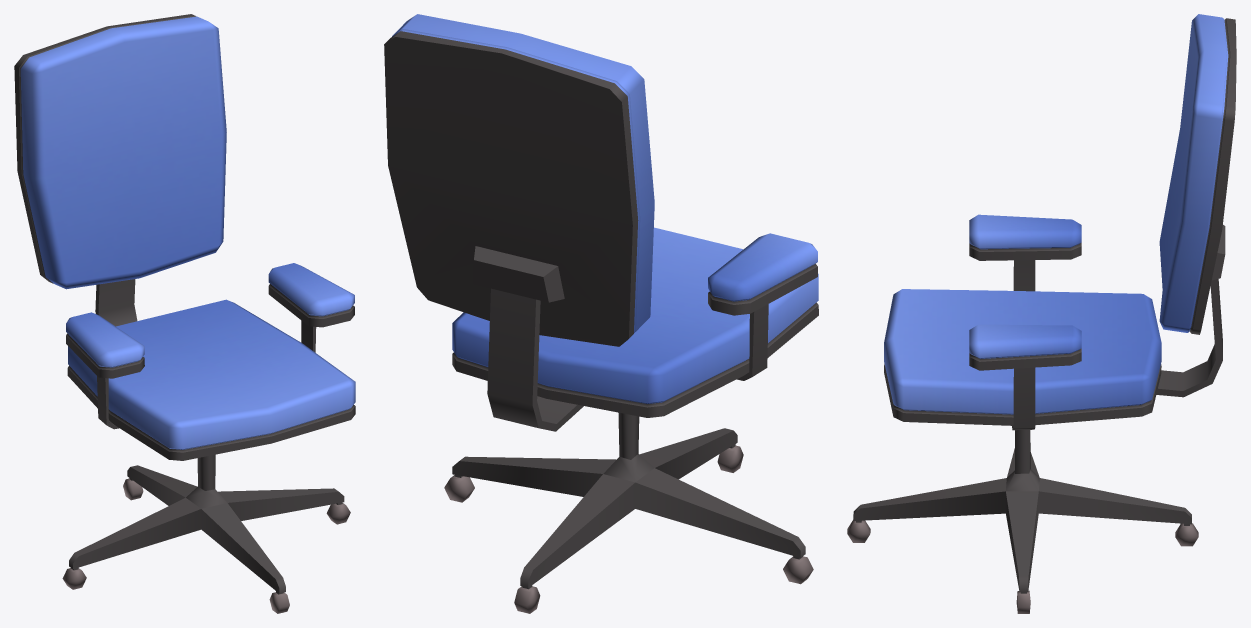
Rendered from SM_Chair_Office_1_06.fbx.
3 renders of one model, left to right at view 1: azimuth 30°, elevation 25°; view 2: azimuth 150°, elevation 25°; view 3: azimuth 270°, elevation 25°, orthographic. The views are drawn at different scales.
Parts seen in each view (by area): view 1: SM_Chair_Office_1_06; view 2: SM_Chair_Office_1_06; view 3: SM_Chair_Office_1_06.
Part boxes in pixels (x1,y1,x2,y2): SM_Chair_Office_1_06: (14, 14, 355, 613); SM_Chair_Office_1_06: (384, 14, 818, 613); SM_Chair_Office_1_06: (847, 14, 1236, 613).
Bounding box in the file's own units: 99.67 × 154 × 111.
